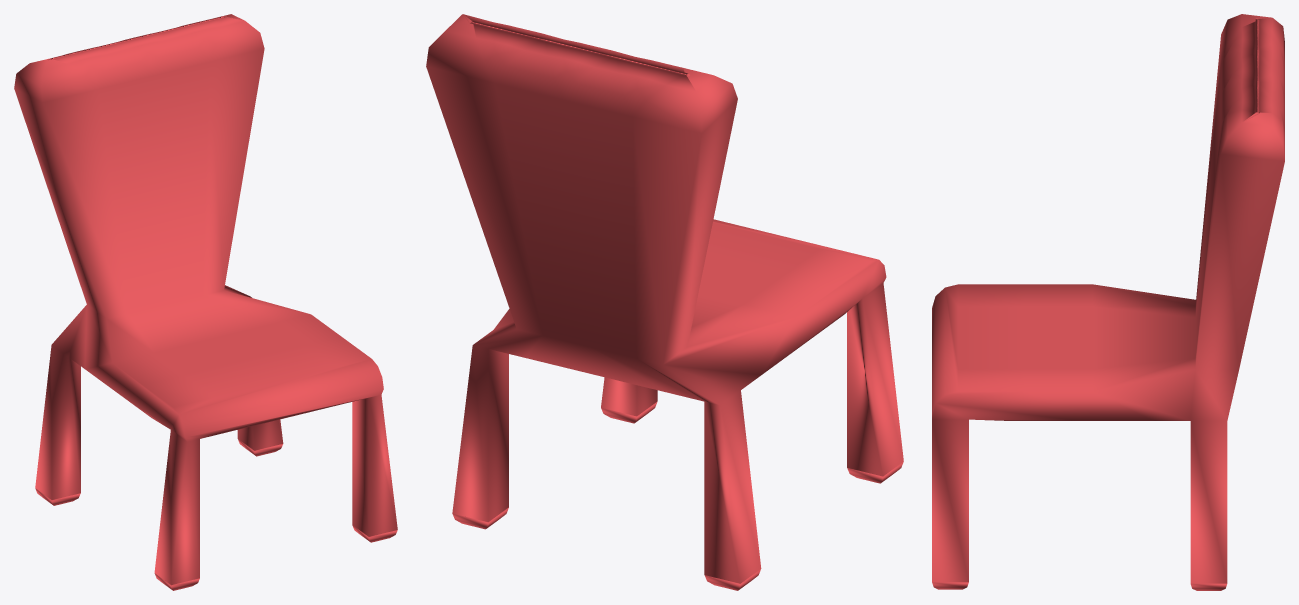
File: chair.glb
3 renders of one model, left to right at view 1: azimuth 30°, elevation 25°; view 2: azimuth 150°, elevation 25°; view 3: azimuth 270°, elevation 25°, orthographic. The views are drawn at different scales.
Visible parts, largest first — view 1: Cube; view 2: Cube; view 3: Cube.
Boxes of the visible parts, x1=… form: Cube: x1=14, y1=14, x2=397, y2=590; Cube: x1=426, y1=14, x2=903, y2=590; Cube: x1=932, y1=14, x2=1284, y2=590.
Bounding box in the file's own units: 2 × 3.49 × 2.39.
